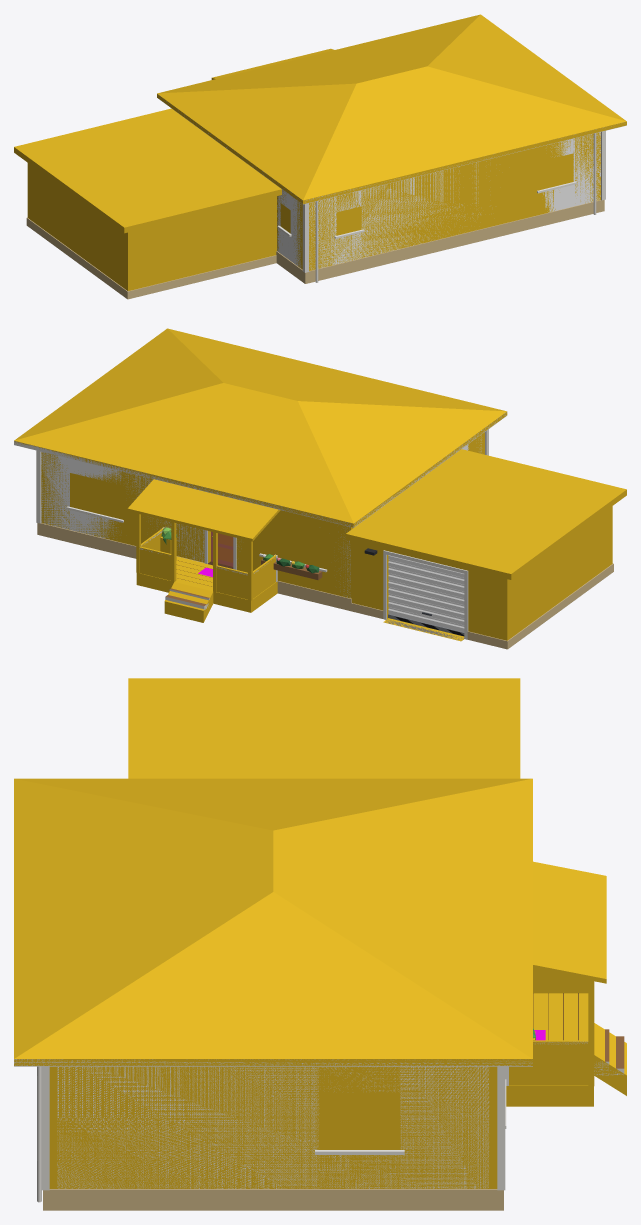
The model's file is safehouse.glb.
The picture shows the model from 3 angles, top to bottom: view 1: azimuth 30°, elevation 25°; view 2: azimuth 150°, elevation 25°; view 3: azimuth 270°, elevation 25°; orthographic projection. The views are drawn at different scales.
Parts seen in each view (by area): view 1: safehouse__col, safehouse__shell; view 2: safehouse__col, safehouse__shell, safehouse__garage_door, safehouse__door; view 3: safehouse__col, safehouse__shell.
Boxes of the visible parts, x1,y1,x2,y2 form: safehouse__col: (14, 14, 626, 290); safehouse__shell: (26, 95, 626, 299); safehouse__col: (14, 328, 626, 641); safehouse__shell: (14, 412, 613, 649); safehouse__garage_door: (388, 555, 464, 636); safehouse__door: (211, 531, 233, 566); safehouse__col: (14, 678, 626, 1188); safehouse__shell: (14, 993, 624, 1210).
Size of the model in its own units: 18.95 by 5.25 by 12.05.
3 materials, 2 textured.
